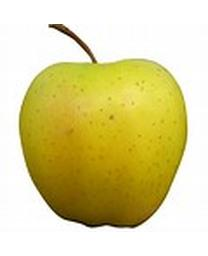apple: (19, 25, 188, 227)
